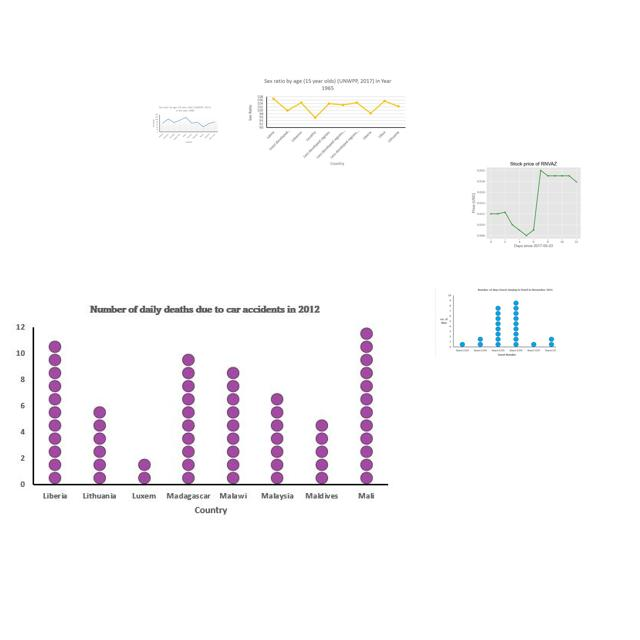Graph: (11, 298, 399, 527), (247, 76, 408, 168), (470, 156, 594, 249), (435, 287, 556, 358), (151, 105, 219, 144)
